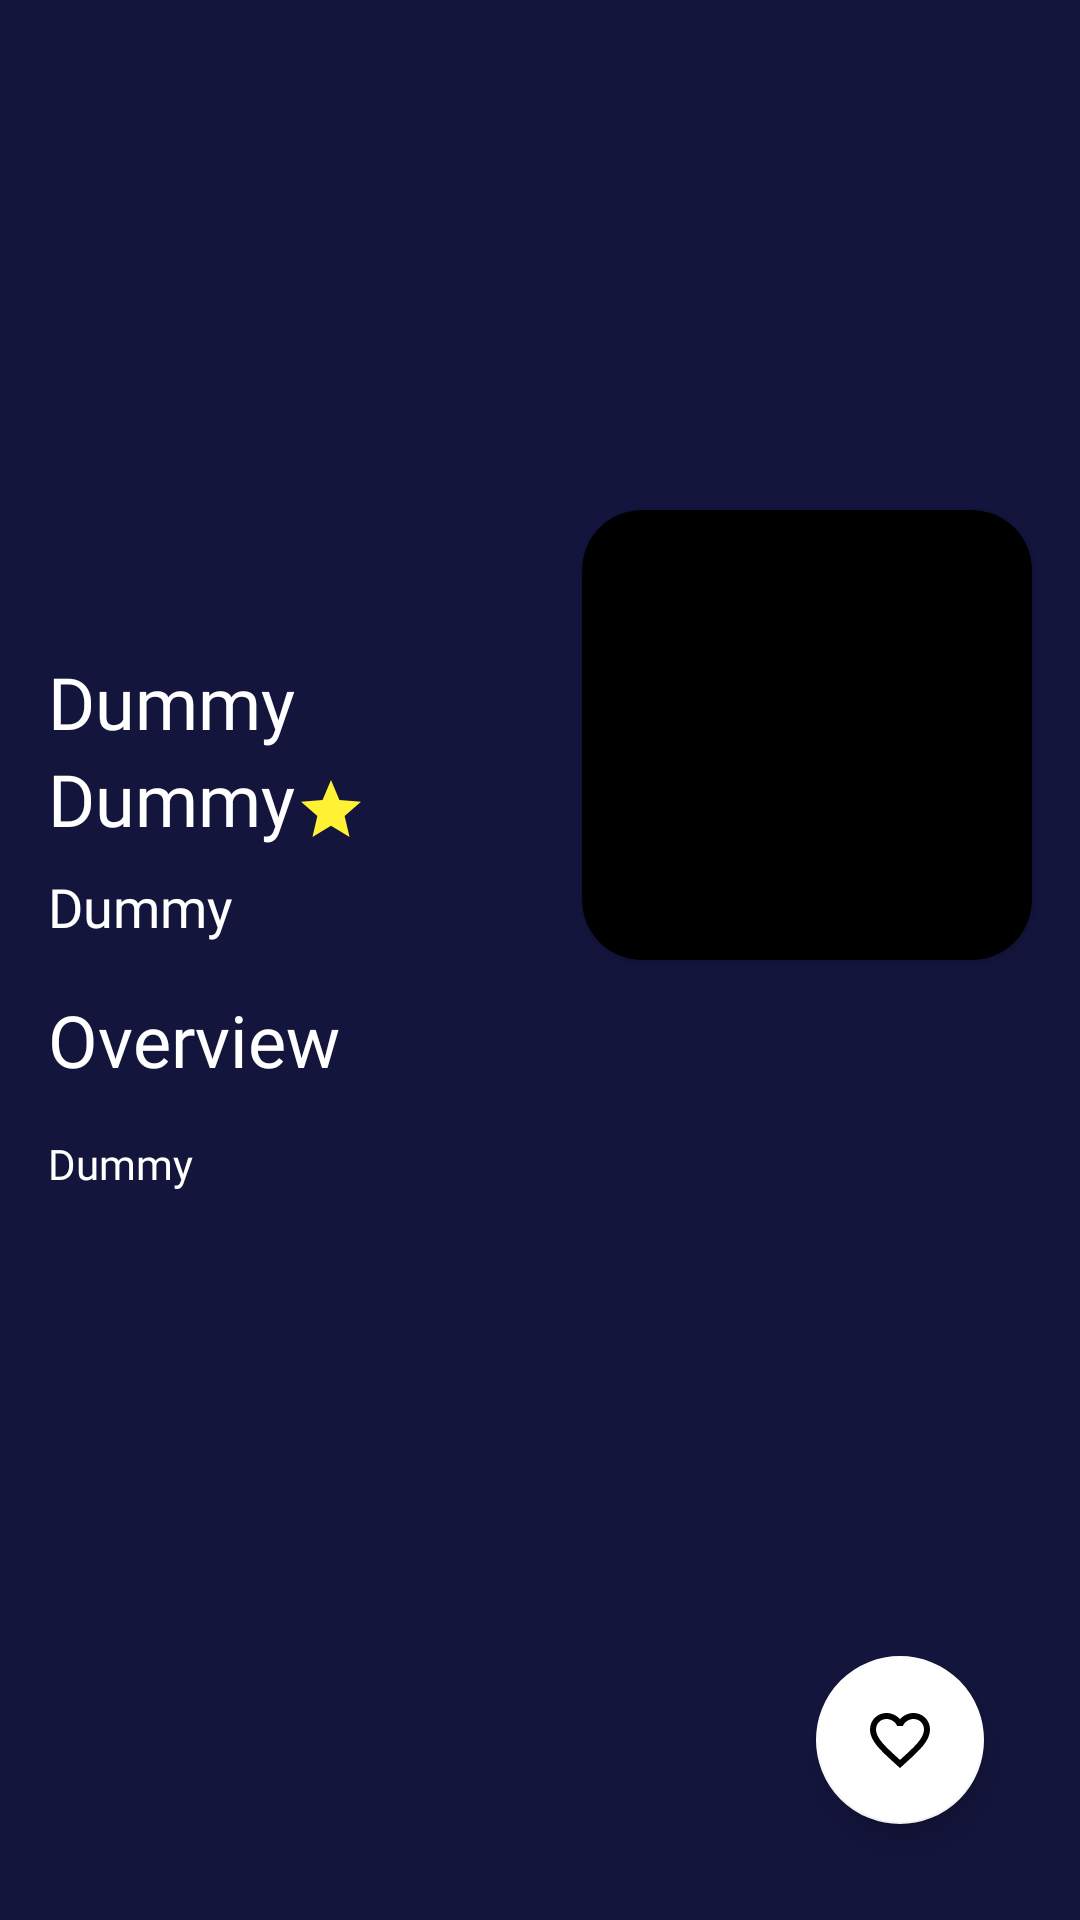

Icon click points for this 1080*1920 phone screenshot, format (x=x, y=y):
fav border: (x=900, y=1740)
star: (x=331, y=808)
